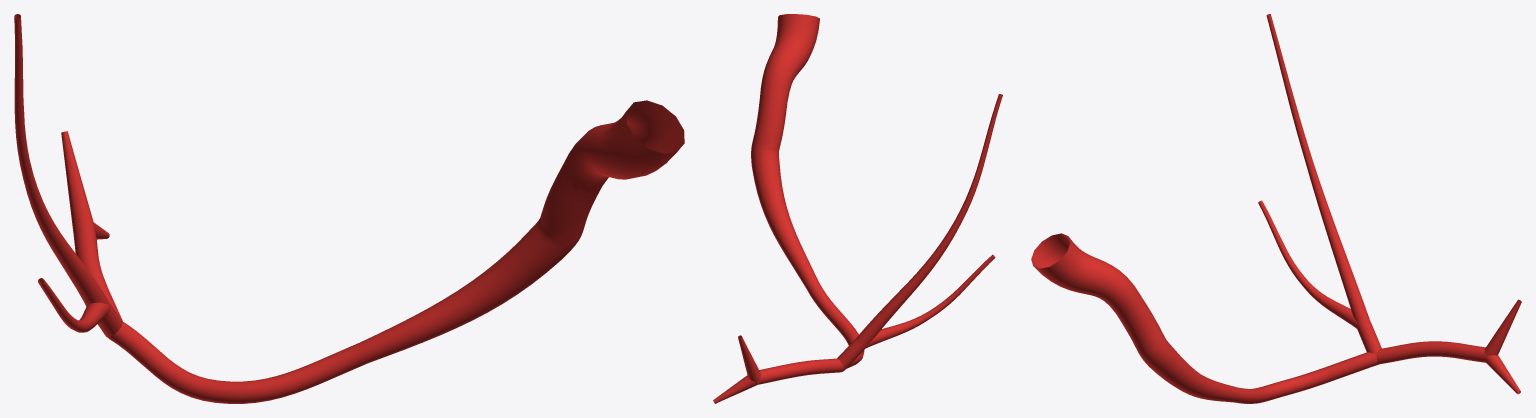
File: circulatorio-superior-gluteal-veins-r.glb
The picture shows the model from 3 angles, left to right: view 1: azimuth 30°, elevation 25°; view 2: azimuth 150°, elevation 25°; view 3: azimuth 270°, elevation 25°; orthographic projection. The views are drawn at different scales.
Parts seen in each view (by area): view 1: Superior gluteal veins.r; view 2: Superior gluteal veins.r; view 3: Superior gluteal veins.r.
Part boxes in pixels (<box>): Superior gluteal veins.r: <box>14,14,684,403</box>; Superior gluteal veins.r: <box>713,14,1002,403</box>; Superior gluteal veins.r: <box>1031,14,1521,403</box>.
Size of the model in its own units: 0.0523 by 0.0442 by 0.0637.
